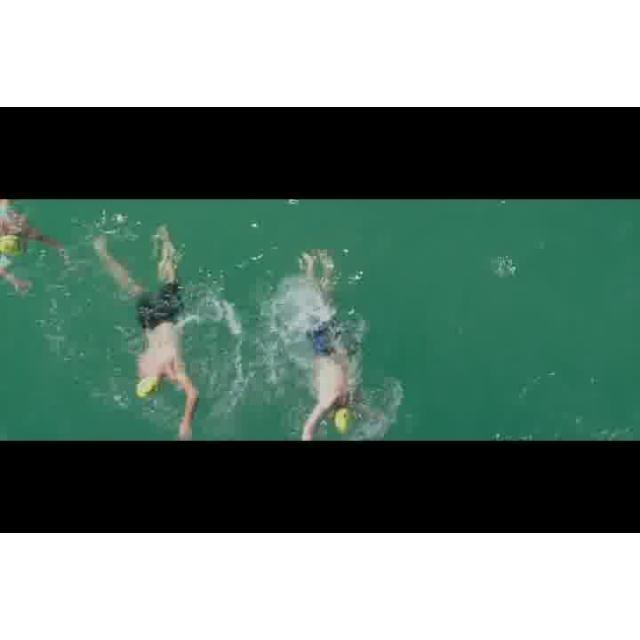human: (270, 248, 389, 440), (94, 230, 198, 442), (1, 196, 89, 292)
